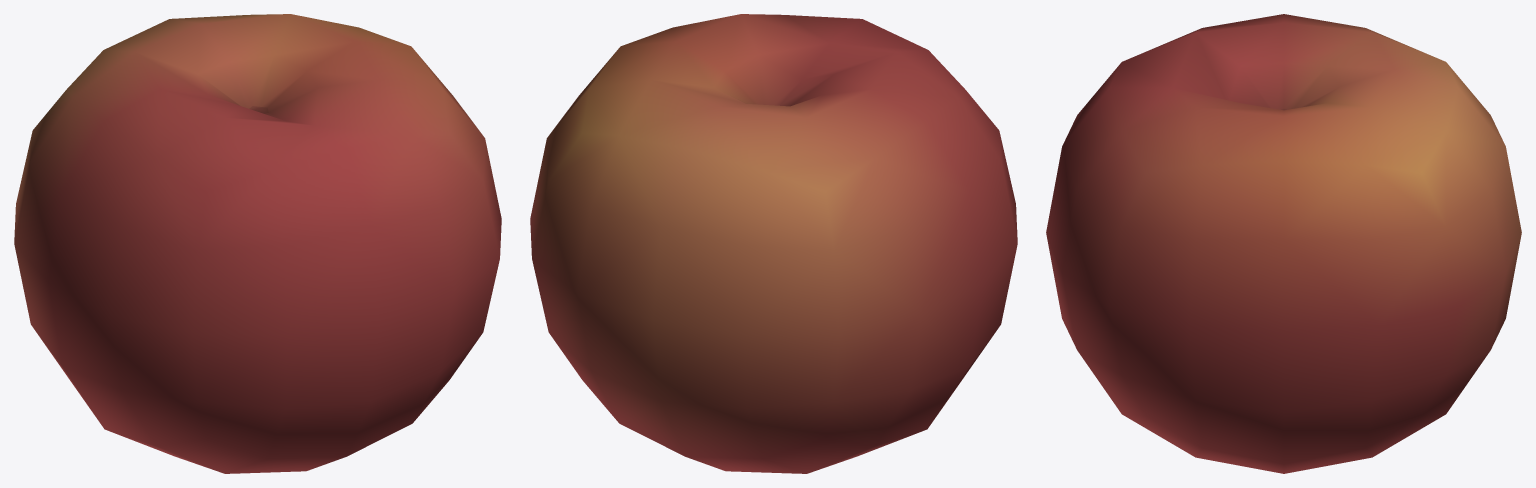
File: consumables-fruits-peach_v1.glb
3 views of the same model, side by side, from view 1: azimuth 30°, elevation 25°; view 2: azimuth 150°, elevation 25°; view 3: azimuth 270°, elevation 25° (orthographic).
Parts seen in each view (by area): view 1: Peach_v1; view 2: Peach_v1; view 3: Peach_v1.
Boxes of the visible parts, left/top/right/bottom form: Peach_v1: left=14, top=14, right=501, bottom=473; Peach_v1: left=530, top=14, right=1017, bottom=473; Peach_v1: left=1046, top=14, right=1521, bottom=473.
Bounding box in the file's own units: 0.0874 × 0.0768 × 0.0874.
